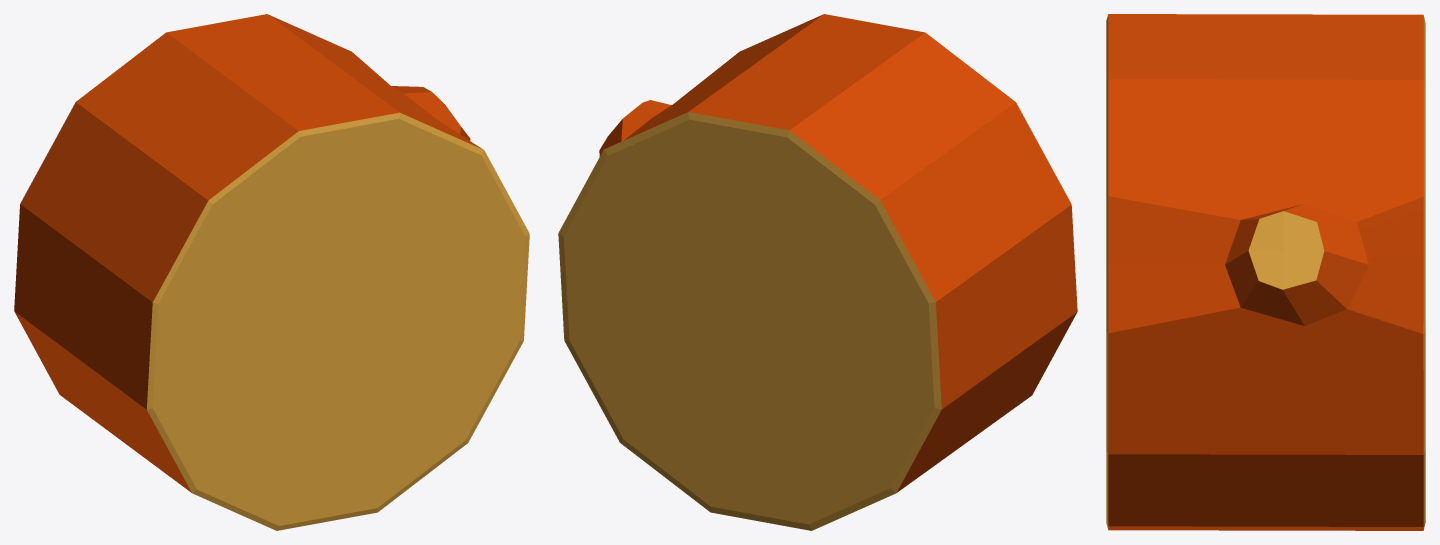
File: stammGrossRoll.fbx
3 views of the same model, side by side, from view 1: azimuth 30°, elevation 25°; view 2: azimuth 150°, elevation 25°; view 3: azimuth 270°, elevation 25° (orthographic). The views are drawn at different scales.
Parts seen in each view (by area): view 1: stammGrssRoll; view 2: stammGrssRoll; view 3: stammGrssRoll.
Part boxes in pixels (x1,y1,x2,y2): stammGrssRoll: (14,14,529,530); stammGrssRoll: (558,14,1077,530); stammGrssRoll: (1106,14,1425,530).
Size of the model in its own units: 586 by 573 by 352.
